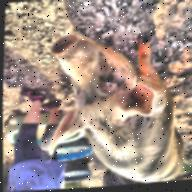boar: (35, 24, 190, 190)
